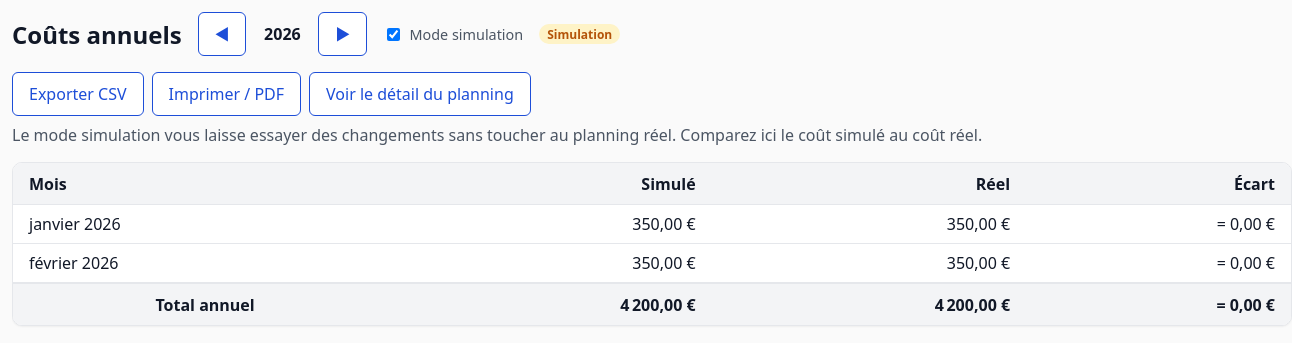
Test: CoutsAnnuelsPage › décoche « Mode simulation » → retour à la vue normale (clé retirée de l'URL)
Expected: the column heading "Écart" is shown, [1026, 163, 1291, 204]
Click the checkbox labelled "Mode simulation". click: point(394, 34)
box: [387, 28, 400, 40]
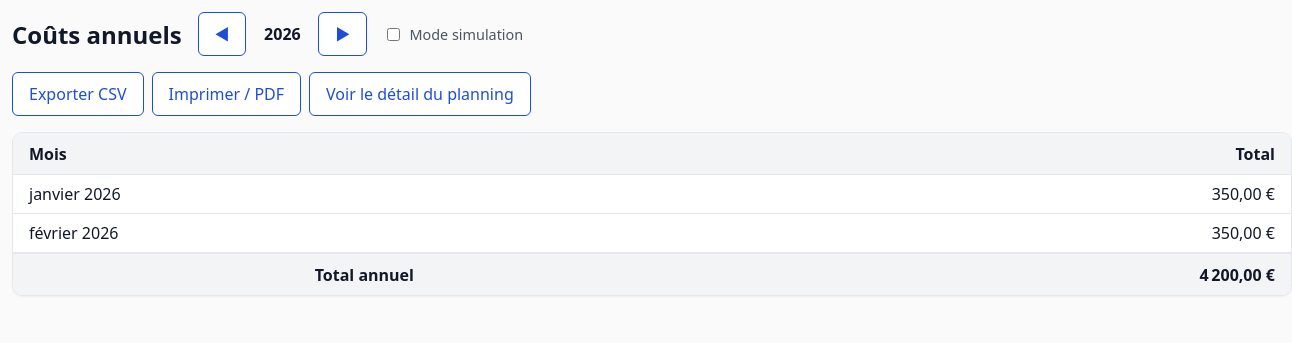
Result: the column heading "Total" is shown at [716, 133, 1291, 174]
Result: the column heading "Écart" is gone
